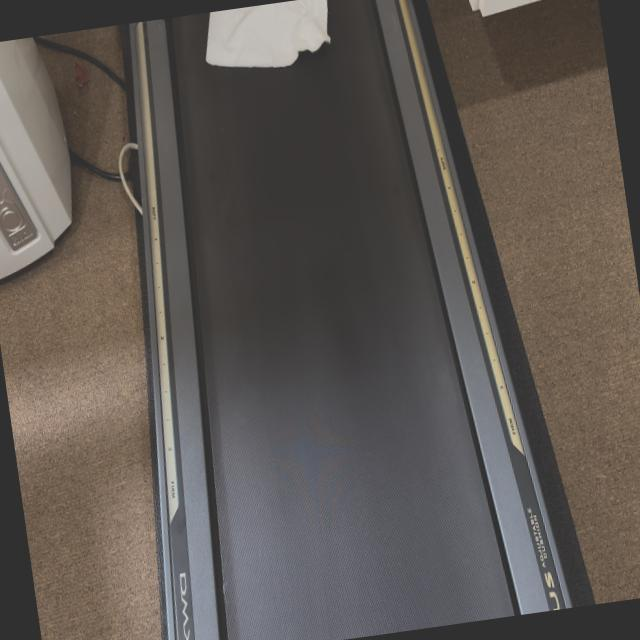Recycle: (196, 0, 337, 76)
